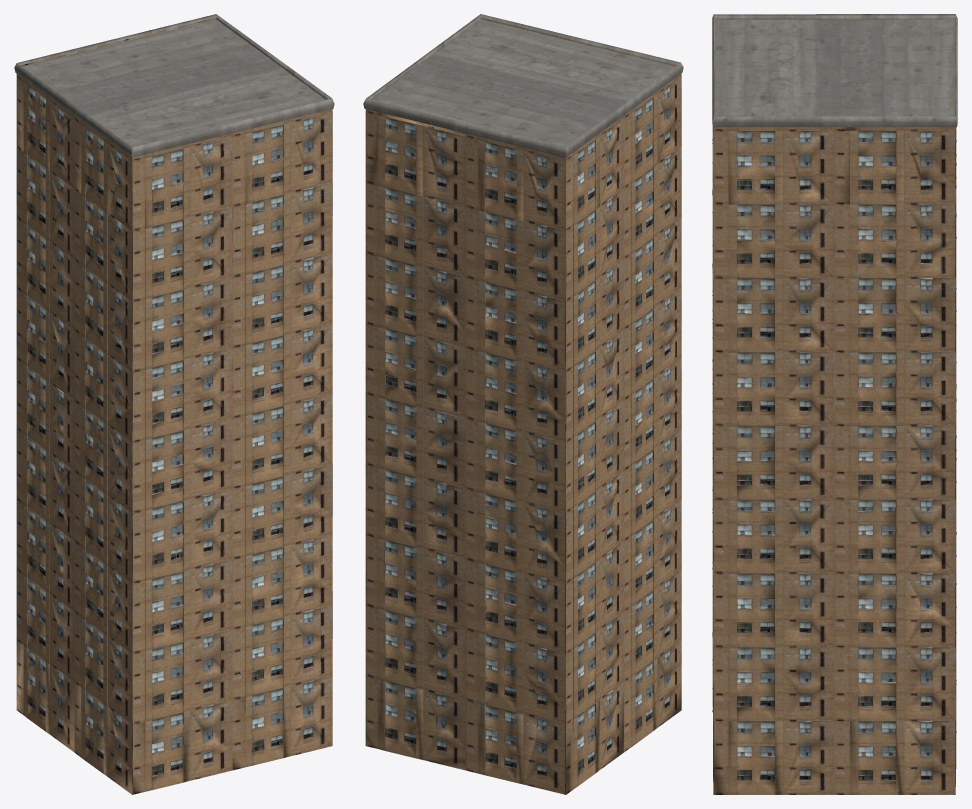
Rendered from building-big-01.glb.
3 renders of one model, left to right at view 1: azimuth 30°, elevation 25°; view 2: azimuth 150°, elevation 25°; view 3: azimuth 270°, elevation 25°, orthographic. The views are drawn at different scales.
Parts seen in each view (by area): view 1: Building-Big-01_Bake1_PBR; view 2: Building-Big-01_Bake1_PBR; view 3: Building-Big-01_Bake1_PBR.
Boxes of the visible parts, left/top/right/bottom form: Building-Big-01_Bake1_PBR: left=14, top=14, right=334, bottom=794; Building-Big-01_Bake1_PBR: left=363, top=14, right=683, bottom=794; Building-Big-01_Bake1_PBR: left=712, top=14, right=957, bottom=794.
Bounding box in the file's own units: 23.03 × 70.16 × 23.03.
Materials: 1 (1 with a texture image).
